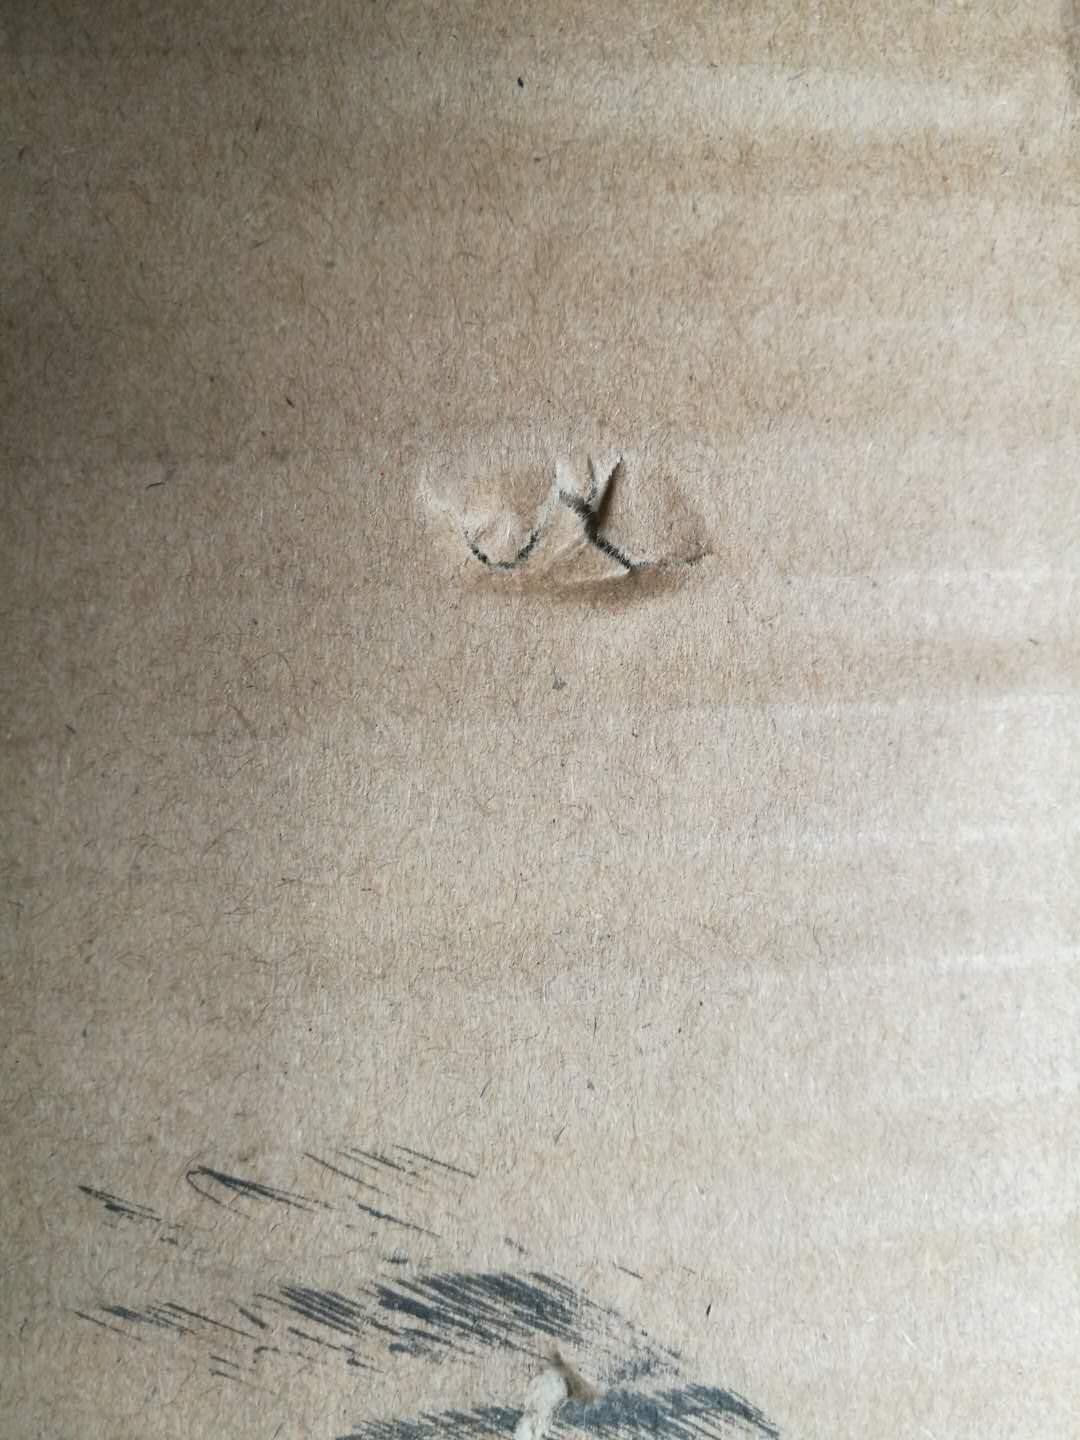defect: (35, 1112, 812, 1440), (385, 404, 746, 636)
